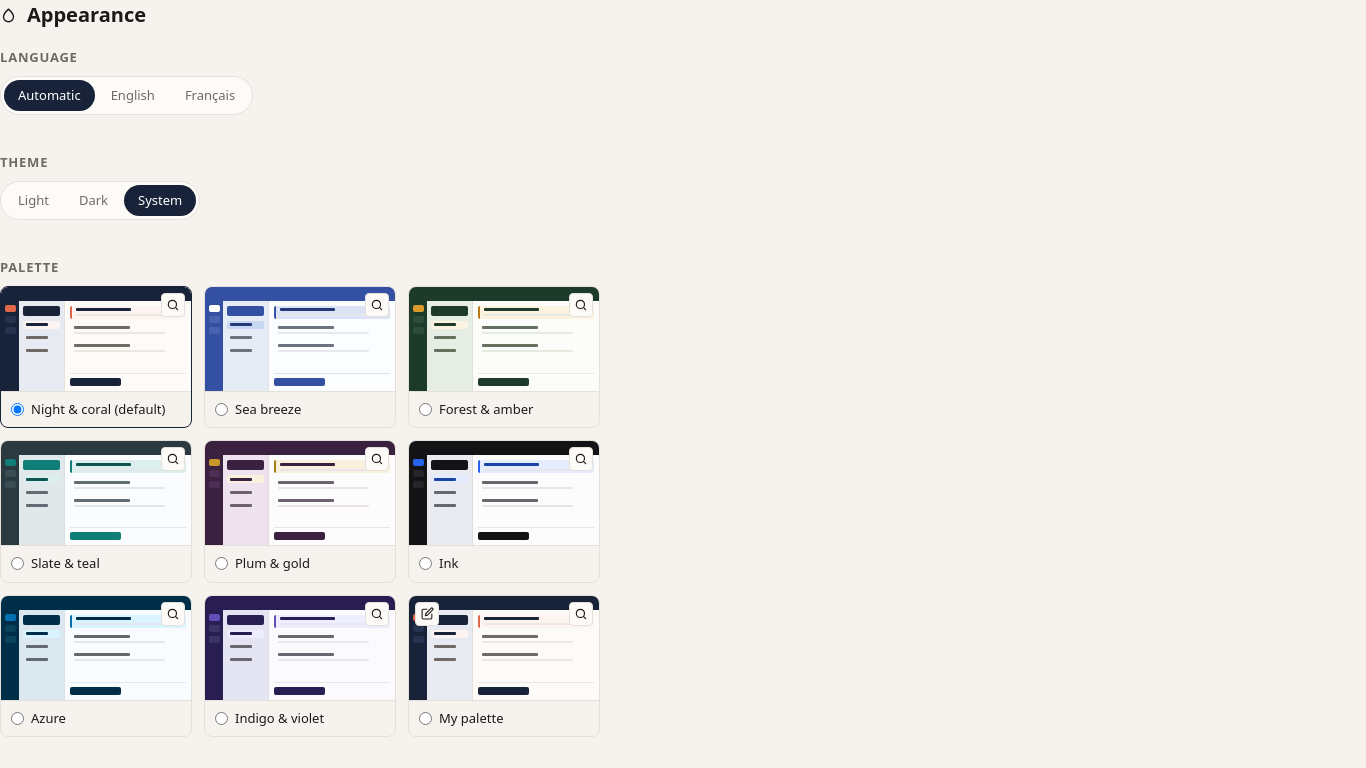
Test: AppearancePage — my palette › reopens the editor on the saved palette
The width and height of the screenshot is (1366, 768).
Click the button named "Edit my palette".
click(427, 614)  # box top-left (415, 602), bottom-right (439, 626)
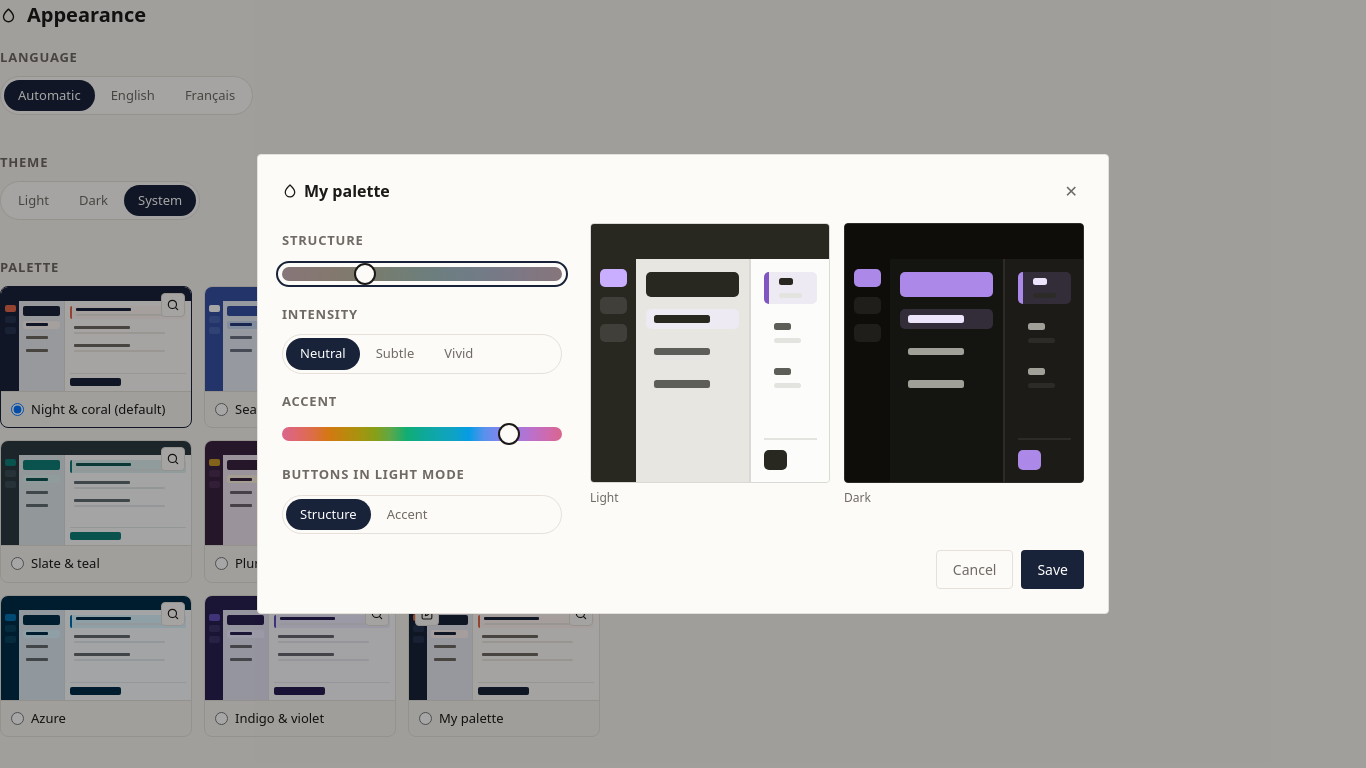
Now the slider labelled "Structure" holds "100", box top-left (282, 266), bottom-right (562, 280)
Now the radio button labelled "Neutral" is checked, box top-left (286, 338), bottom-right (360, 370)
